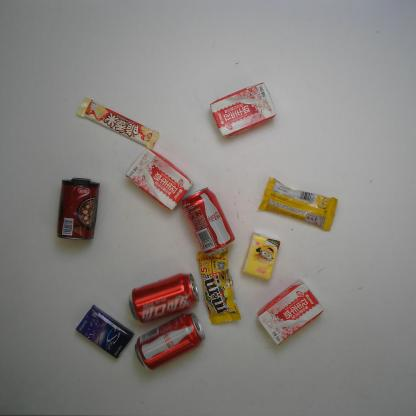Canned Food: (53, 174, 102, 240)
Chocolate: (77, 93, 160, 150), (256, 178, 338, 231), (196, 248, 241, 327)
Drink: (132, 311, 207, 373), (182, 185, 235, 258), (127, 271, 200, 324)
Gum: (73, 303, 136, 360)
Milk: (252, 278, 326, 348), (126, 149, 195, 214), (209, 80, 278, 140)
Tissue: (242, 233, 280, 282)
